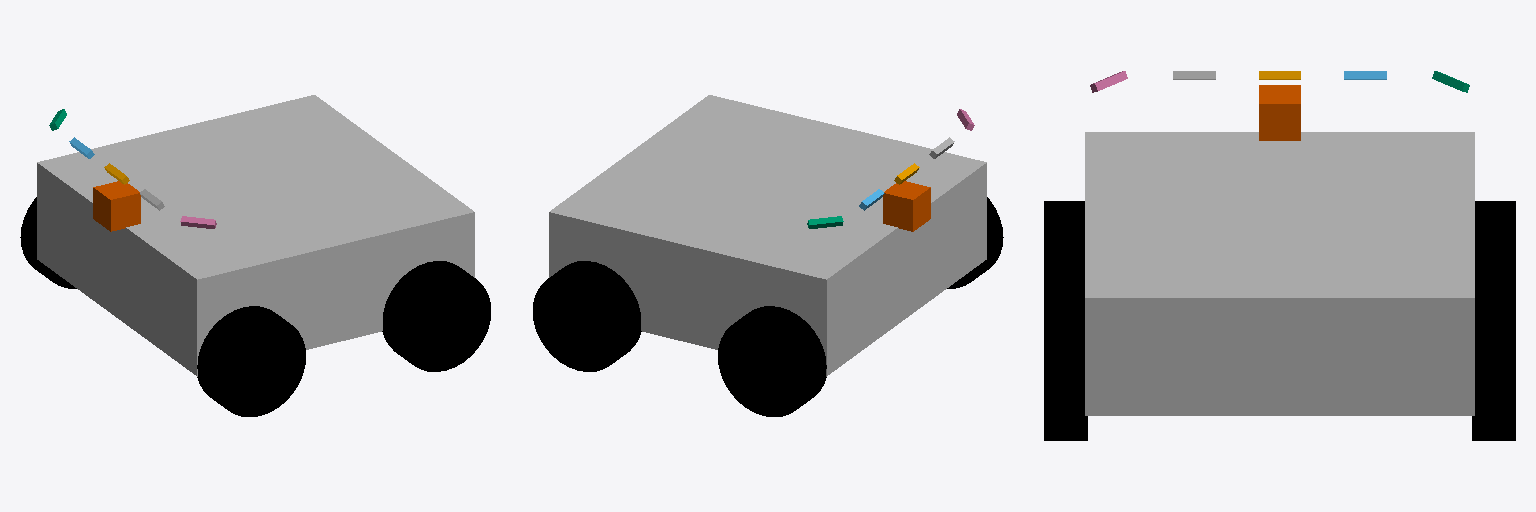
URDF robot description (ansrr_bot):
<?xml version="1.0" encoding="utf-8"?>
<!-- =================================================================================== -->
<!-- |    This document was autogenerated by xacro from ansrr_bot.xacro                | -->
<!-- |    EDITING THIS FILE BY HAND IS NOT RECOMMENDED                                 | -->
<!-- =================================================================================== -->
<robot name="ansrr_bot">
  <link name="base_link">
    <visual>
      <geometry>
        <box size="0.4572 0.4572 0.1524"/>
      </geometry>
      <material name="silver">
        <color rgba="0.75 0.75 0.75 1"/>
      </material>
    </visual>
    <collision>
      <geometry>
        <box size="0.4572 0.4572 0.1524"/>
      </geometry>
    </collision>
    <inertial>
      <mass value="1"/>
      <inertia ixx="0.01935" ixy="0" ixz="0" iyy="0.01935" iyz="0" izz="0.03483"/>
    </inertial>
  </link>
  <link name="left_front">
    <visual>
      <geometry>
        <cylinder length="0.0508" radius="0.0762"/>
      </geometry>
      <material name="black">
        <color rgba="0 0 0 1"/>
      </material>
    </visual>
    <collision>
      <geometry>
        <cylinder length="0.0508" radius="0.0762"/>
      </geometry>
    </collision>
    <inertial>
      <mass value="0.1"/>
      <inertia ixx="0.0005685" ixy="0" ixz="0" iyy="0.0005685" iyz="0" izz="0.0002903"/>
    </inertial>
  </link>
  <joint name="base_to_left_front" type="continuous">
    <axis xyz="0 0 1"/>
    <parent link="base_link"/>
    <child link="left_front"/>
    <origin rpy="1.5708 0 0" xyz="-0.1524 -0.25 -0.06096"/>
  </joint>
  <transmission name="left_front_joint_trans" type="SimpleTransmission">
    <actuator name="left_front_motor"/>
    <joint name="$base_to_{w_name}"/>
    <mechanicalReduction>1</mechanicalReduction>
    <motorTorqueConstant>1</motorTorqueConstant>
  </transmission>
  <link name="left_rear">
    <visual>
      <geometry>
        <cylinder length="0.0508" radius="0.0762"/>
      </geometry>
      <material name="black">
        <color rgba="0 0 0 1"/>
      </material>
    </visual>
    <collision>
      <geometry>
        <cylinder length="0.0508" radius="0.0762"/>
      </geometry>
    </collision>
    <inertial>
      <mass value="0.1"/>
      <inertia ixx="0.0005685" ixy="0" ixz="0" iyy="0.0005685" iyz="0" izz="0.0002903"/>
    </inertial>
  </link>
  <joint name="base_to_left_rear" type="continuous">
    <axis xyz="0 0 1"/>
    <parent link="base_link"/>
    <child link="left_rear"/>
    <origin rpy="1.5708 0 0" xyz="0.1524 -0.25 -0.06096"/>
  </joint>
  <transmission name="left_rear_joint_trans" type="SimpleTransmission">
    <actuator name="left_rear_motor"/>
    <joint name="$base_to_{w_name}"/>
    <mechanicalReduction>1</mechanicalReduction>
    <motorTorqueConstant>1</motorTorqueConstant>
  </transmission>
  <link name="right_front">
    <visual>
      <geometry>
        <cylinder length="0.0508" radius="0.0762"/>
      </geometry>
      <material name="black">
        <color rgba="0 0 0 1"/>
      </material>
    </visual>
    <collision>
      <geometry>
        <cylinder length="0.0508" radius="0.0762"/>
      </geometry>
    </collision>
    <inertial>
      <mass value="0.1"/>
      <inertia ixx="0.0005685" ixy="0" ixz="0" iyy="0.0005685" iyz="0" izz="0.0002903"/>
    </inertial>
  </link>
  <joint name="base_to_right_front" type="continuous">
    <axis xyz="0 0 1"/>
    <parent link="base_link"/>
    <child link="right_front"/>
    <origin rpy="1.5708 0 0" xyz="-0.1524 0.25 -0.06096"/>
  </joint>
  <transmission name="right_front_joint_trans" type="SimpleTransmission">
    <actuator name="right_front_motor"/>
    <joint name="$base_to_{w_name}"/>
    <mechanicalReduction>1</mechanicalReduction>
    <motorTorqueConstant>1</motorTorqueConstant>
  </transmission>
  <link name="right_rear">
    <visual>
      <geometry>
        <cylinder length="0.0508" radius="0.0762"/>
      </geometry>
      <material name="black">
        <color rgba="0 0 0 1"/>
      </material>
    </visual>
    <collision>
      <geometry>
        <cylinder length="0.0508" radius="0.0762"/>
      </geometry>
    </collision>
    <inertial>
      <mass value="0.1"/>
      <inertia ixx="0.0005685" ixy="0" ixz="0" iyy="0.0005685" iyz="0" izz="0.0002903"/>
    </inertial>
  </link>
  <joint name="base_to_right_rear" type="continuous">
    <axis xyz="0 0 1"/>
    <parent link="base_link"/>
    <child link="right_rear"/>
    <origin rpy="1.5708 0 0" xyz="0.1524 0.25 -0.06096"/>
  </joint>
  <transmission name="right_rear_joint_trans" type="SimpleTransmission">
    <actuator name="right_rear_motor"/>
    <joint name="$base_to_{w_name}"/>
    <mechanicalReduction>1</mechanicalReduction>
    <motorTorqueConstant>1</motorTorqueConstant>
  </transmission>
  <link name="lidar">
    <visual>
      <geometry>
        <box size="0.05 0.05 0.05"/>
      </geometry>
    </visual>
    <collision>
      <geometry>
        <box size="0.05 0.05 0.05"/>
      </geometry>
    </collision>
    <inertial>
      <mass value="0.05"/>
      <inertia ixx="0.01" ixy="0" ixz="0" iyy="0.01" iyz="0" izz="0.01"/>
    </inertial>
  </link>
  <joint name="base_to_lidar" type="fixed">
    <axis xyz="0 0 1"/>
    <parent link="base_link"/>
    <child link="lidar"/>
    <origin rpy="0 0 3.14" xyz="-.2286 0 0.1"/>
  </joint>
  <gazebo>
    <plugin filename="libgazebo_ros_diff_drive.so" name="differential_drive_controller">
      <leftJoint>base_to_left_rear</leftJoint>
      <rightJoint>base_to_right_rear</rightJoint>
      <robotBaseFrame>base_link</robotBaseFrame>
      <wheelSeparation>0.4064</wheelSeparation>
      <wheelDiameter>0.1524</wheelDiameter>
      <publishWheelJointState>true</publishWheelJointState>
    </plugin>
    <plugin filename="libgazebo_ros_diff_drive.so" name="differential_drive_controller">
      <leftJoint>base_to_left_front</leftJoint>
      <rightJoint>base_to_right_front</rightJoint>
      <robotBaseFrame>base_link</robotBaseFrame>
      <wheelSeparation>0.4064</wheelSeparation>
      <wheelDiameter>0.1524</wheelDiameter>
      <publishWheelJointState>true</publishWheelJointState>
    </plugin>
  </gazebo>
  <gazebo reference="lidar">
    <sensor name="lds_lfcd_sensor" type="ray">
      <pose>0 0 0 0 0 0</pose>
      <visualize>0</visualize>
      <update_rate>40</update_rate>
      <ray>
        <scan>
          <horizontal>
            <samples>360</samples>
            <resolution>1</resolution>
            <min_angle>0</min_angle>
            <max_angle>6.28</max_angle>
          </horizontal>
        </scan>
        <range>
          <min>0.1</min>
          <max>11</max>
          <resolution>0.01</resolution>
        </range>
      </ray>
      <plugin filename="libgazebo_ros_laser.so" name="gazebo_ros_lds_lfcd_controller  ">
        <topicName>/scan</topicName>
        <frameName>lidar</frameName>
      </plugin>
    </sensor>
  </gazebo>
  <link name="us_link_1">
    <visual>
      <geometry>
        <box size="0.01 0.05 0.01"/>
      </geometry>
    </visual>
    <collision>
      <geometry>
        <box size="0.05 0.05 0.05"/>
      </geometry>
    </collision>
    <inertial>
      <mass value="0.05"/>
      <inertia ixx="0.01" ixy="0" ixz="0" iyy="0.01" iyz="0" izz="0.01"/>
    </inertial>
  </link>
  <joint name="base_to_us_link_1" type="fixed">
    <axis xyz="0 0 1"/>
    <parent link="base_link"/>
    <child link="us_link_1"/>
    <origin rpy="0 .5 -2.356" xyz="-.21 -0.2 0.15"/>
  </joint>
  <gazebo reference="us_link_1">
    <sensor name="us1" type="ray">
      <pose>0 0 0 0 0 0</pose>
      <visualize>1</visualize>
      <update_rate>40</update_rate>
      <ray>
        <scan>
          <horizontal>
            <samples>10</samples>
            <resolution>5</resolution>
            <min_angle>-0.1484</min_angle>
            <max_angle>0.1484</max_angle>
          </horizontal>
          <vertical>
            <samples>10</samples>
            <resolution>5</resolution>
            <min_angle>-0.2967</min_angle>
            <max_angle>0</max_angle>
          </vertical>
        </scan>
        <range>
          <min>0.1</min>
          <max>0.7</max>
          <resolution>0.01</resolution>
        </range>
      </ray>
      <plugin filename="libgazebo_ros_range.so" name="gazebo_ros_us1">
        <gaussianNoise>0.005</gaussianNoise>
        <alwaysOn>true</alwaysOn>
        <updateRate>50</updateRate>
        <topicName>ultrasound_1</topicName>
        <frameName>us_link_1</frameName>
        <radiation>ULTRASOUND</radiation>
        <fov>0.2967</fov>
      </plugin>
    </sensor>
  </gazebo>
  <link name="us_link_2">
    <visual>
      <geometry>
        <box size="0.01 0.05 0.01"/>
      </geometry>
    </visual>
    <collision>
      <geometry>
        <box size="0.05 0.05 0.05"/>
      </geometry>
    </collision>
    <inertial>
      <mass value="0.05"/>
      <inertia ixx="0.01" ixy="0" ixz="0" iyy="0.01" iyz="0" izz="0.01"/>
    </inertial>
  </link>
  <joint name="base_to_us_link_2" type="fixed">
    <axis xyz="0 0 1"/>
    <parent link="base_link"/>
    <child link="us_link_2"/>
    <origin rpy="0 .5 3.14" xyz="-.2286 -0.1 0.15"/>
  </joint>
  <gazebo reference="us_link_2">
    <sensor name="us2" type="ray">
      <pose>0 0 0 0 0 0</pose>
      <visualize>1</visualize>
      <update_rate>40</update_rate>
      <ray>
        <scan>
          <horizontal>
            <samples>10</samples>
            <resolution>5</resolution>
            <min_angle>-0.1484</min_angle>
            <max_angle>0.1484</max_angle>
          </horizontal>
          <vertical>
            <samples>10</samples>
            <resolution>5</resolution>
            <min_angle>-0.2967</min_angle>
            <max_angle>0</max_angle>
          </vertical>
        </scan>
        <range>
          <min>0.1</min>
          <max>0.7</max>
          <resolution>0.01</resolution>
        </range>
      </ray>
      <plugin filename="libgazebo_ros_range.so" name="gazebo_ros_us2">
        <gaussianNoise>0.005</gaussianNoise>
        <alwaysOn>true</alwaysOn>
        <updateRate>50</updateRate>
        <topicName>ultrasound_2</topicName>
        <frameName>us_link_2</frameName>
        <radiation>ULTRASOUND</radiation>
        <fov>0.2967</fov>
      </plugin>
    </sensor>
  </gazebo>
  <link name="us_link_3">
    <visual>
      <geometry>
        <box size="0.01 0.05 0.01"/>
      </geometry>
    </visual>
    <collision>
      <geometry>
        <box size="0.05 0.05 0.05"/>
      </geometry>
    </collision>
    <inertial>
      <mass value="0.05"/>
      <inertia ixx="0.01" ixy="0" ixz="0" iyy="0.01" iyz="0" izz="0.01"/>
    </inertial>
  </link>
  <joint name="base_to_us_link_3" type="fixed">
    <axis xyz="0 0 1"/>
    <parent link="base_link"/>
    <child link="us_link_3"/>
    <origin rpy="0 0.5 3.14" xyz="-.2286 0 0.15"/>
  </joint>
  <gazebo reference="us_link_3">
    <sensor name="us3" type="ray">
      <pose>0 0 0 0 0 0</pose>
      <visualize>1</visualize>
      <update_rate>40</update_rate>
      <ray>
        <scan>
          <horizontal>
            <samples>10</samples>
            <resolution>5</resolution>
            <min_angle>-0.1484</min_angle>
            <max_angle>0.1484</max_angle>
          </horizontal>
          <vertical>
            <samples>10</samples>
            <resolution>5</resolution>
            <min_angle>-0.2967</min_angle>
            <max_angle>0</max_angle>
          </vertical>
        </scan>
        <range>
          <min>0.1</min>
          <max>0.7</max>
          <resolution>0.01</resolution>
        </range>
      </ray>
      <plugin filename="libgazebo_ros_range.so" name="gazebo_ros_us3">
        <gaussianNoise>0.005</gaussianNoise>
        <alwaysOn>true</alwaysOn>
        <updateRate>50</updateRate>
        <topicName>ultrasound_3</topicName>
        <frameName>us_link_3</frameName>
        <radiation>ULTRASOUND</radiation>
        <fov>0.2967</fov>
      </plugin>
    </sensor>
  </gazebo>
  <link name="us_link_4">
    <visual>
      <geometry>
        <box size="0.01 0.05 0.01"/>
      </geometry>
    </visual>
    <collision>
      <geometry>
        <box size="0.05 0.05 0.05"/>
      </geometry>
    </collision>
    <inertial>
      <mass value="0.05"/>
      <inertia ixx="0.01" ixy="0" ixz="0" iyy="0.01" iyz="0" izz="0.01"/>
    </inertial>
  </link>
  <joint name="base_to_us_link_4" type="fixed">
    <axis xyz="0 0 1"/>
    <parent link="base_link"/>
    <child link="us_link_4"/>
    <origin rpy="0 0.5 3.14" xyz="-.2286 0.1 0.15"/>
  </joint>
  <gazebo reference="us_link_4">
    <sensor name="us4" type="ray">
      <pose>0 0 0 0 0 0</pose>
      <visualize>1</visualize>
      <update_rate>40</update_rate>
      <ray>
        <scan>
          <horizontal>
            <samples>10</samples>
            <resolution>5</resolution>
            <min_angle>-0.1484</min_angle>
            <max_angle>0.1484</max_angle>
          </horizontal>
          <vertical>
            <samples>10</samples>
            <resolution>5</resolution>
            <min_angle>-0.2967</min_angle>
            <max_angle>0</max_angle>
          </vertical>
        </scan>
        <range>
          <min>0.1</min>
          <max>0.7</max>
          <resolution>0.01</resolution>
        </range>
      </ray>
      <plugin filename="libgazebo_ros_range.so" name="gazebo_ros_us4">
        <gaussianNoise>0.005</gaussianNoise>
        <alwaysOn>true</alwaysOn>
        <updateRate>50</updateRate>
        <topicName>ultrasound_4</topicName>
        <frameName>us_link_4</frameName>
        <radiation>ULTRASOUND</radiation>
        <fov>0.2967</fov>
      </plugin>
    </sensor>
  </gazebo>
  <link name="us_link_5">
    <visual>
      <geometry>
        <box size="0.01 0.05 0.01"/>
      </geometry>
    </visual>
    <collision>
      <geometry>
        <box size="0.05 0.05 0.05"/>
      </geometry>
    </collision>
    <inertial>
      <mass value="0.05"/>
      <inertia ixx="0.01" ixy="0" ixz="0" iyy="0.01" iyz="0" izz="0.01"/>
    </inertial>
  </link>
  <joint name="base_to_us_link_5" type="fixed">
    <axis xyz="0 0 1"/>
    <parent link="base_link"/>
    <child link="us_link_5"/>
    <origin rpy="0 0.5 2.356" xyz="-.21 0.2 0.15"/>
  </joint>
  <gazebo reference="us_link_5">
    <sensor name="us5" type="ray">
      <pose>0 0 0 0 0 0</pose>
      <visualize>1</visualize>
      <update_rate>40</update_rate>
      <ray>
        <scan>
          <horizontal>
            <samples>10</samples>
            <resolution>5</resolution>
            <min_angle>-0.1484</min_angle>
            <max_angle>0.1484</max_angle>
          </horizontal>
          <vertical>
            <samples>10</samples>
            <resolution>5</resolution>
            <min_angle>-0.2967</min_angle>
            <max_angle>0</max_angle>
          </vertical>
        </scan>
        <range>
          <min>0.1</min>
          <max>0.7</max>
          <resolution>0.01</resolution>
        </range>
      </ray>
      <plugin filename="libgazebo_ros_range.so" name="gazebo_ros_us5">
        <gaussianNoise>0.005</gaussianNoise>
        <alwaysOn>true</alwaysOn>
        <updateRate>50</updateRate>
        <topicName>ultrasound_5</topicName>
        <frameName>us_link_5</frameName>
        <radiation>ULTRASOUND</radiation>
        <fov>0.2967</fov>
      </plugin>
    </sensor>
  </gazebo>
</robot>

--- Facts derived from the render (not from the file) ---
The picture shows the robot from 3 angles, left to right: view 1: azimuth 30°, elevation 25°; view 2: azimuth 150°, elevation 25°; view 3: azimuth 270°, elevation 25°; orthographic projection.
Model ansrr_bot with 11 links and 10 joints (4 continuous, 6 fixed), rooted at base_link, posed all joints at 0.
Links seen in each view (by area): view 1: base_link, left_front, left_rear, lidar, right_front; view 2: base_link, right_front, right_rear, lidar, left_front; view 3: base_link, left_rear, right_rear, left_front, right_front, lidar.
Boxes of the visible links, left/top/right/bottom form: base_link: left=37, top=95, right=474, bottom=376; left_front: left=197, top=306, right=305, bottom=416; left_rear: left=382, top=261, right=490, bottom=371; lidar: left=93, top=181, right=140, bottom=231; right_front: left=20, top=197, right=76, bottom=288; base_link: left=549, top=95, right=986, bottom=376; right_front: left=718, top=306, right=826, bottom=416; right_rear: left=533, top=261, right=641, bottom=371; lidar: left=883, top=181, right=930, bottom=231; left_front: left=947, top=197, right=1003, bottom=288; base_link: left=1085, top=132, right=1474, bottom=415; left_rear: left=1044, top=311, right=1087, bottom=440; right_rear: left=1472, top=311, right=1515, bottom=440; left_front: left=1044, top=201, right=1084, bottom=310; right_front: left=1475, top=201, right=1515, bottom=310; lidar: left=1259, top=85, right=1300, bottom=140.
Bounding box of the posed robot: 0.4822 × 0.5508 × 0.2939 m (x, y, z).
Geometry: primitives only (box / cylinder / sphere), no mesh files.
